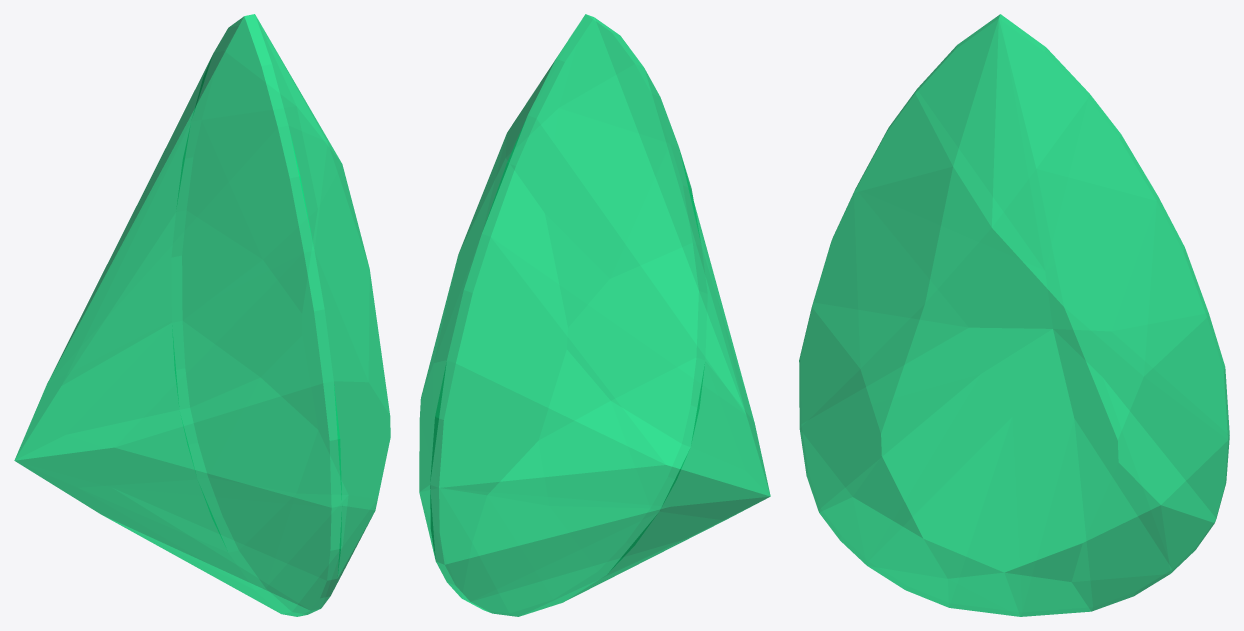
File: pear peridot.glb
3 renders of one model, left to right at view 1: azimuth 30°, elevation 25°; view 2: azimuth 150°, elevation 25°; view 3: azimuth 270°, elevation 25°, orthographic.
Parts seen in each view (by area): view 1: Pear (tear); view 2: Pear (tear); view 3: Pear (tear).
Boxes of the visible parts, x1,y1,x2,y2 form: Pear (tear): [14, 14, 390, 616]; Pear (tear): [419, 14, 770, 616]; Pear (tear): [799, 14, 1229, 616].
Size of the model in its own units: 1.19 by 2.09 by 1.39.
